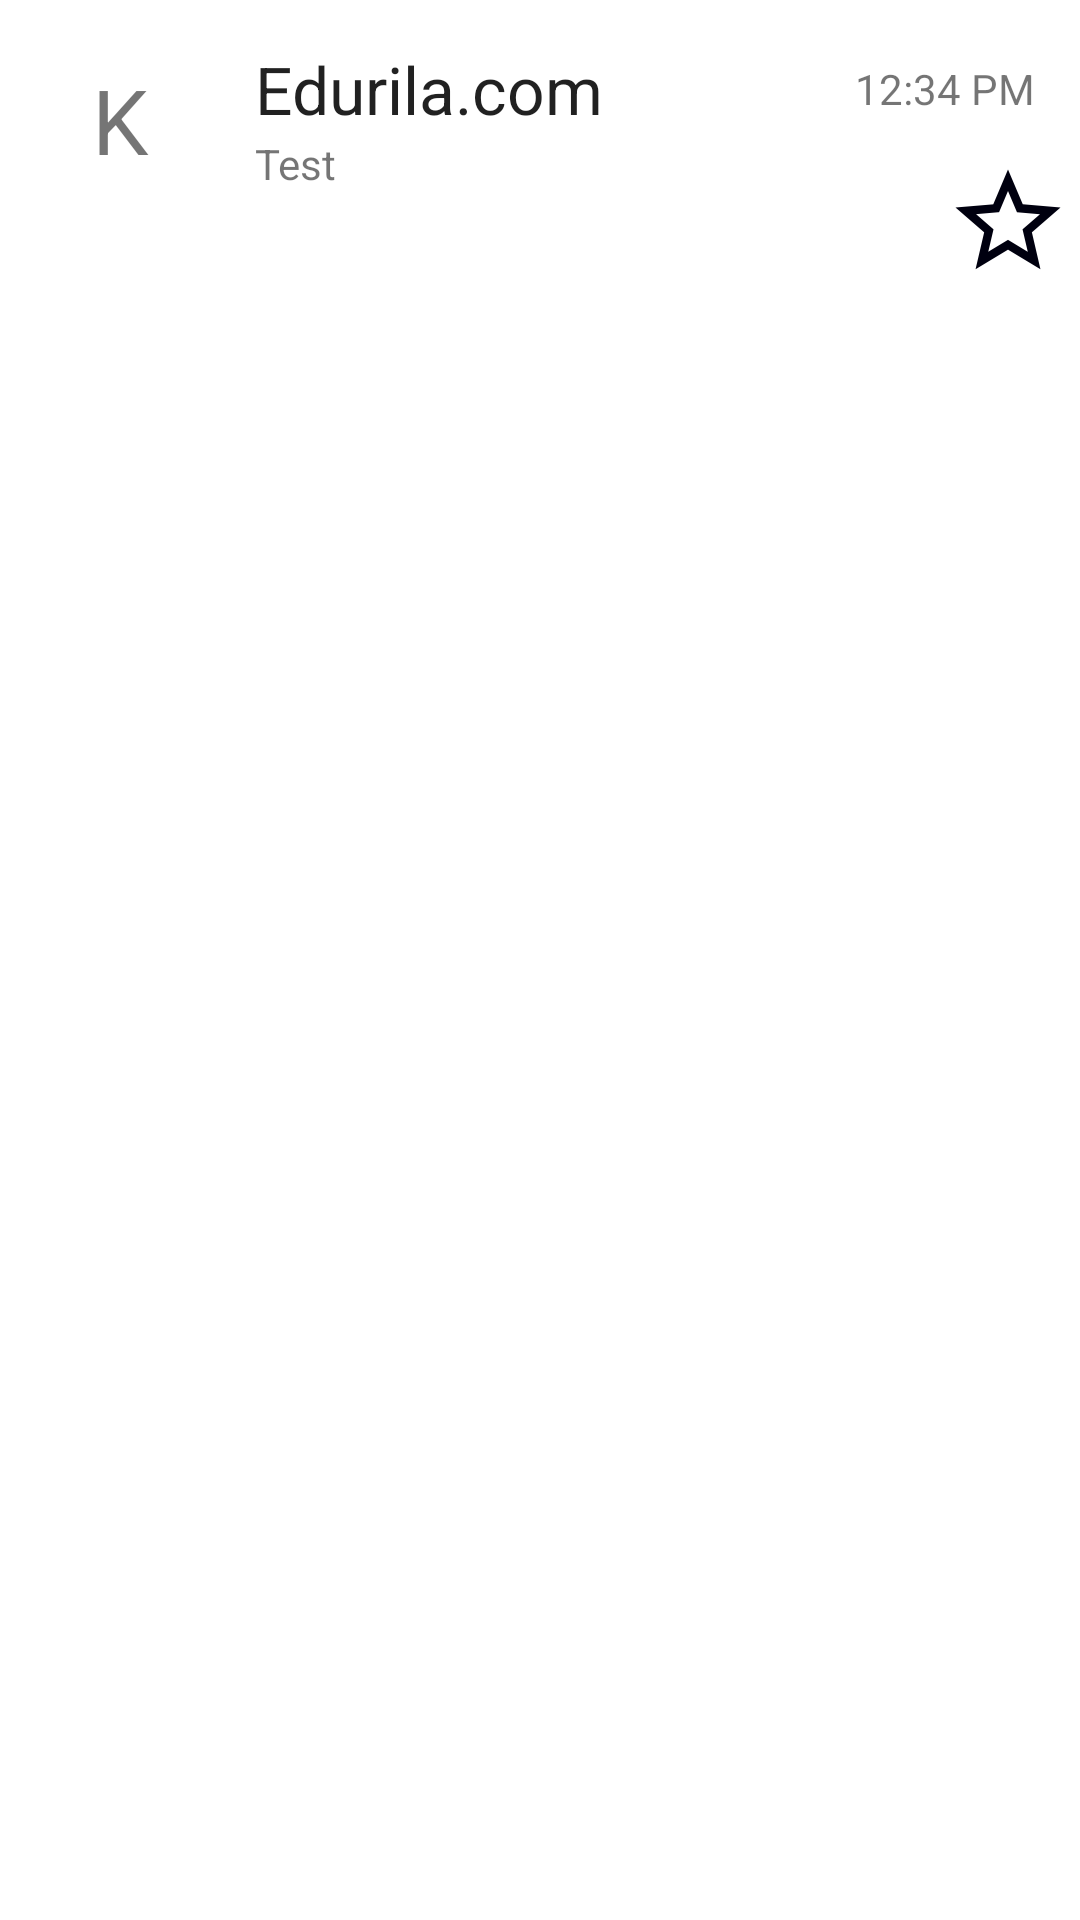

Icons on this 1080 x 1920 Android screen, each with the point to tap as point (x, y):
star: point (1008, 219)
